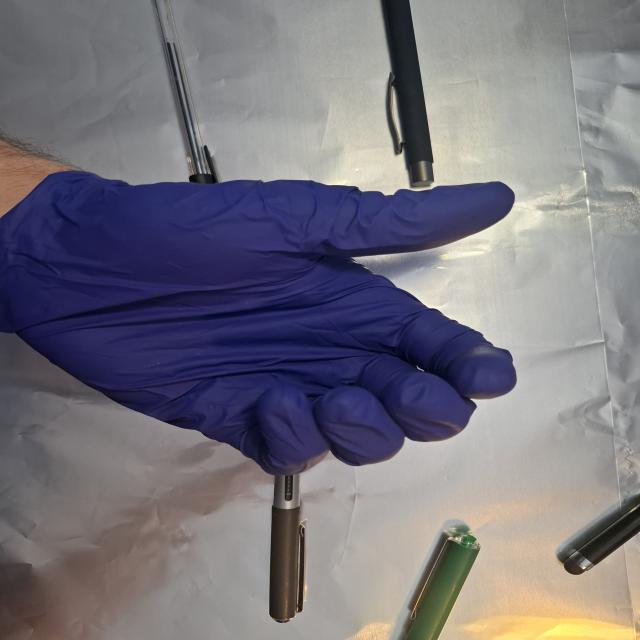glove_on: (0, 168, 522, 480)
